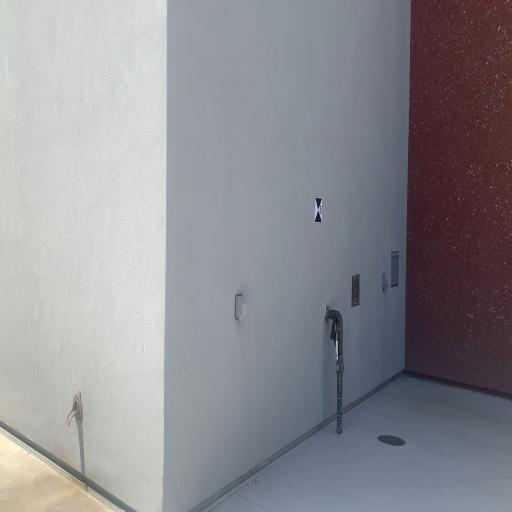target3: (314, 196, 322, 224)
